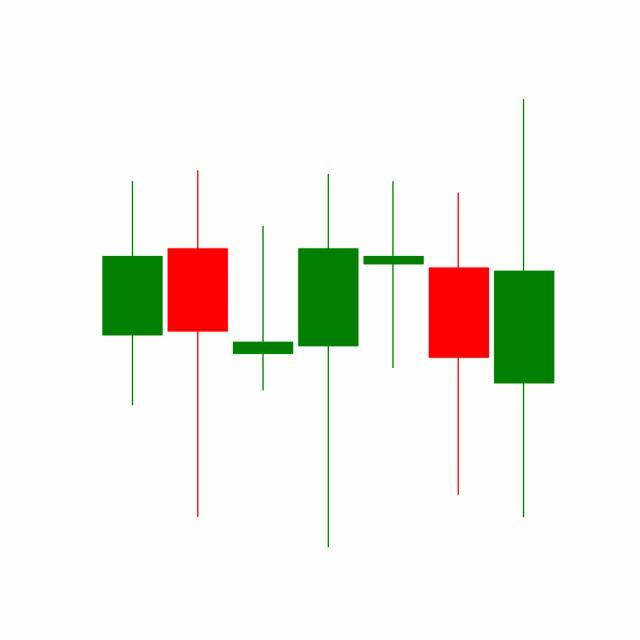Hikkake Pattern: (165, 166, 492, 549)
